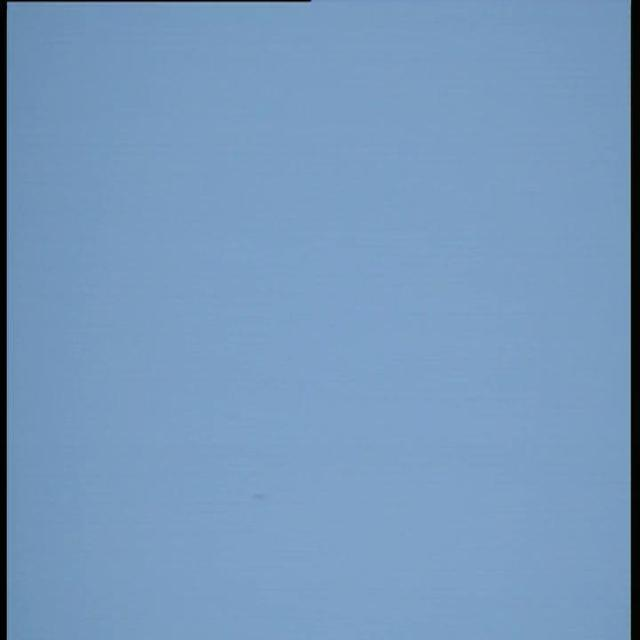drone: (244, 488, 274, 502)
